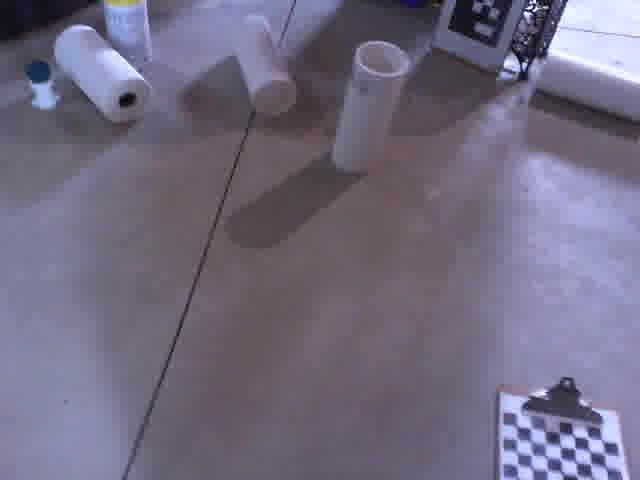coral: (336, 43, 407, 176), (55, 25, 151, 123), (230, 14, 299, 117)
